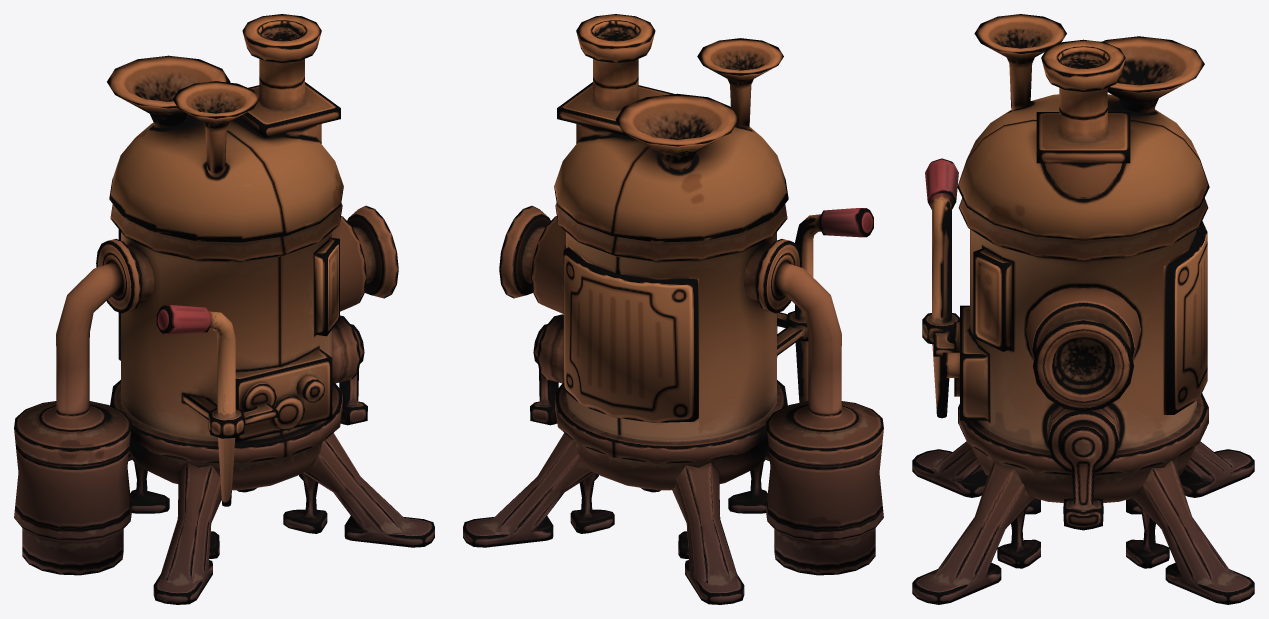
Rendered from machine1.fbx.
3 views of the same model, side by side, from view 1: azimuth 30°, elevation 25°; view 2: azimuth 150°, elevation 25°; view 3: azimuth 270°, elevation 25° (orthographic). The views are drawn at different scales.
Visible parts, largest first — view 1: machine1; view 2: machine1; view 3: machine1.
Part boxes in pixels (x1=…): machine1: x1=14, y1=14, x2=434, y2=604; machine1: x1=463, y1=14, x2=883, y2=604; machine1: x1=912, y1=14, x2=1254, y2=604.
Bounding box in the file's own units: 326 × 416 × 256.
